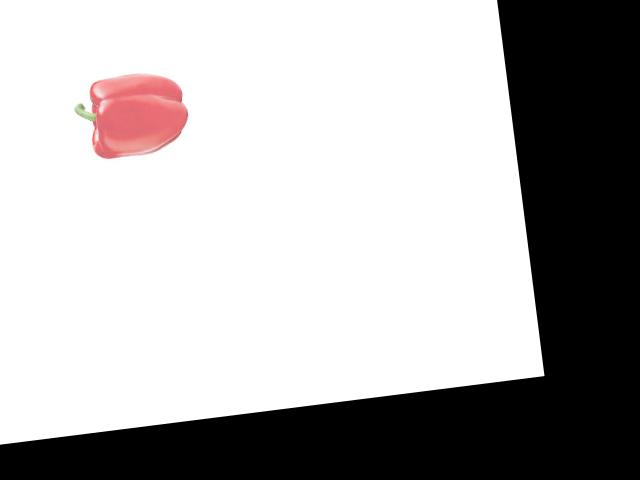bell_pepper: (70, 63, 196, 168)
